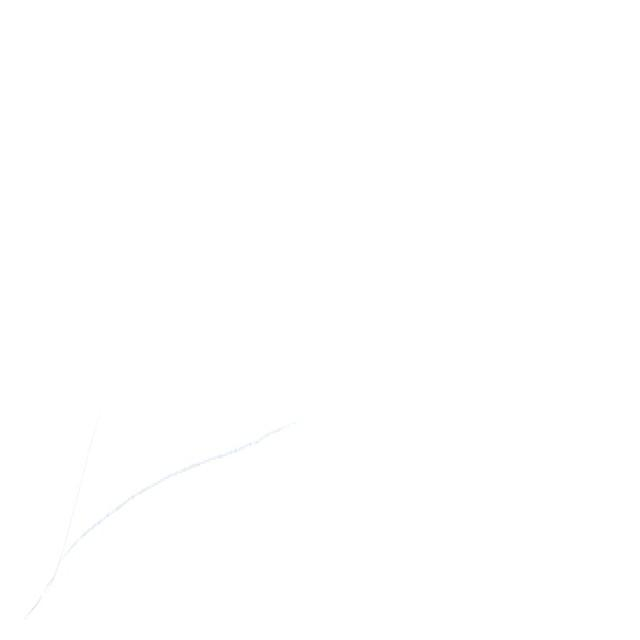crack: (80, 386, 308, 564)
